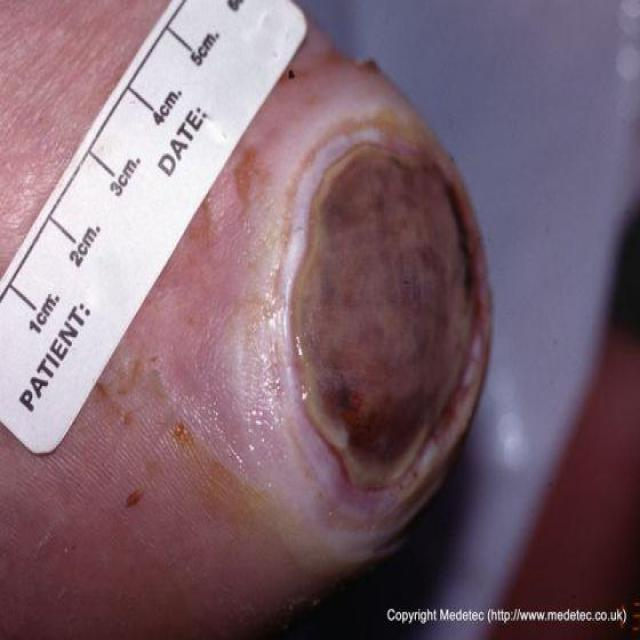Unstageable: (284, 114, 489, 490)
